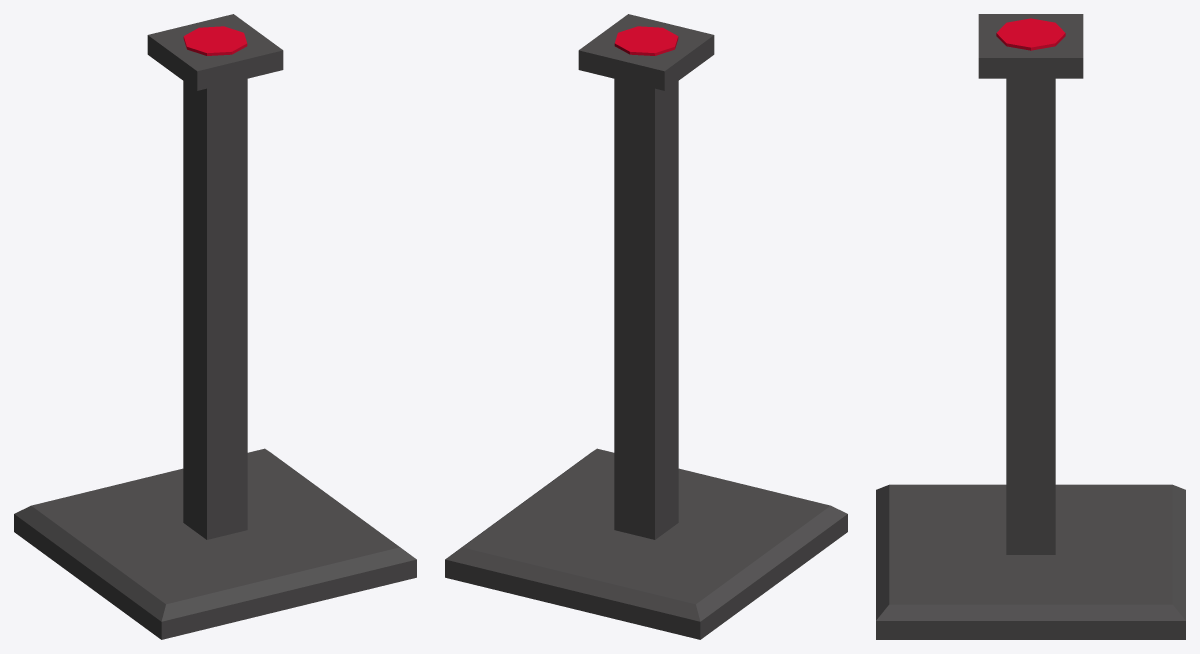
File: ButtonForSpeaker.fbx
The picture shows the model from 3 angles, left to right: view 1: azimuth 30°, elevation 25°; view 2: azimuth 150°, elevation 25°; view 3: azimuth 270°, elevation 25°; orthographic projection. The views are drawn at different scales.
Parts seen in each view (by area): view 1: Cube, Cylinder; view 2: Cube, Cylinder; view 3: Cube, Cylinder.
Part boxes in pixels (x1=…): Cube: x1=14, y1=14, x2=416, y2=639; Cylinder: x1=183, y1=26, x2=247, y2=55; Cube: x1=445, y1=14, x2=847, y2=639; Cylinder: x1=614, y1=26, x2=678, y2=55; Cube: x1=876, y1=14, x2=1185, y2=639; Cylinder: x1=996, y1=18, x2=1065, y2=50.
Bounding box in the file's own units: 89.19 × 172 × 89.19.
